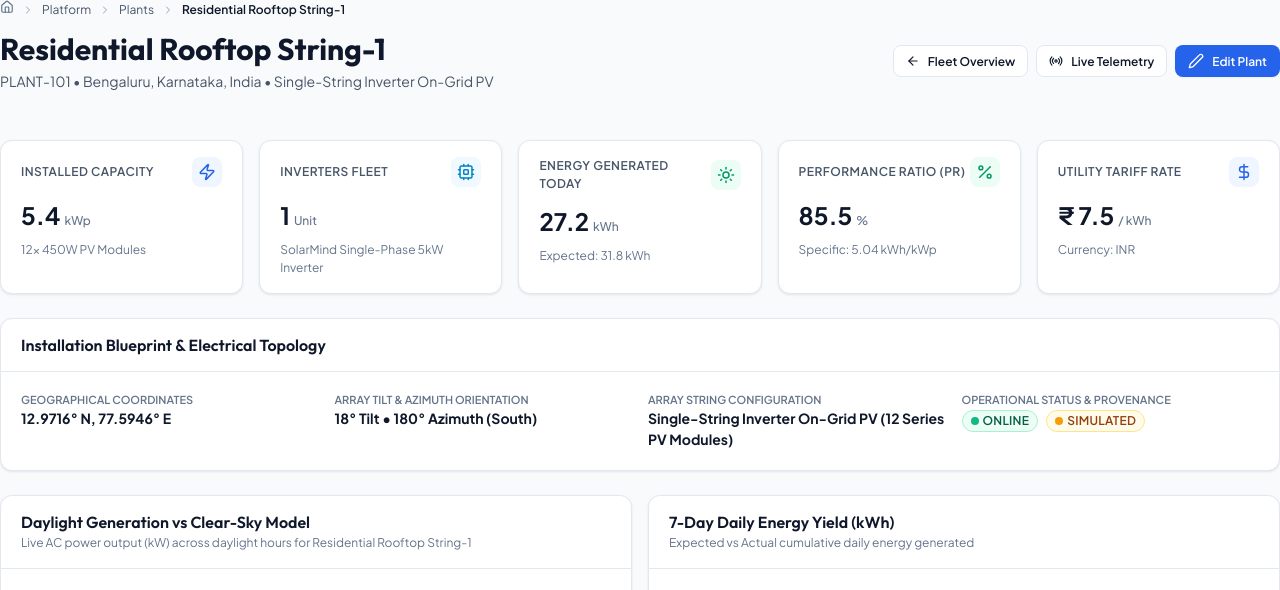
Test: PlantDetailPage Component Suite › opens Edit Plant modal from detail page
Expected: the heading "Residential Rooftop String-1" is shown, [0, 30, 386, 68]
Click the button "Edit Plant".
click(1228, 61)  # box [1175, 45, 1279, 77]
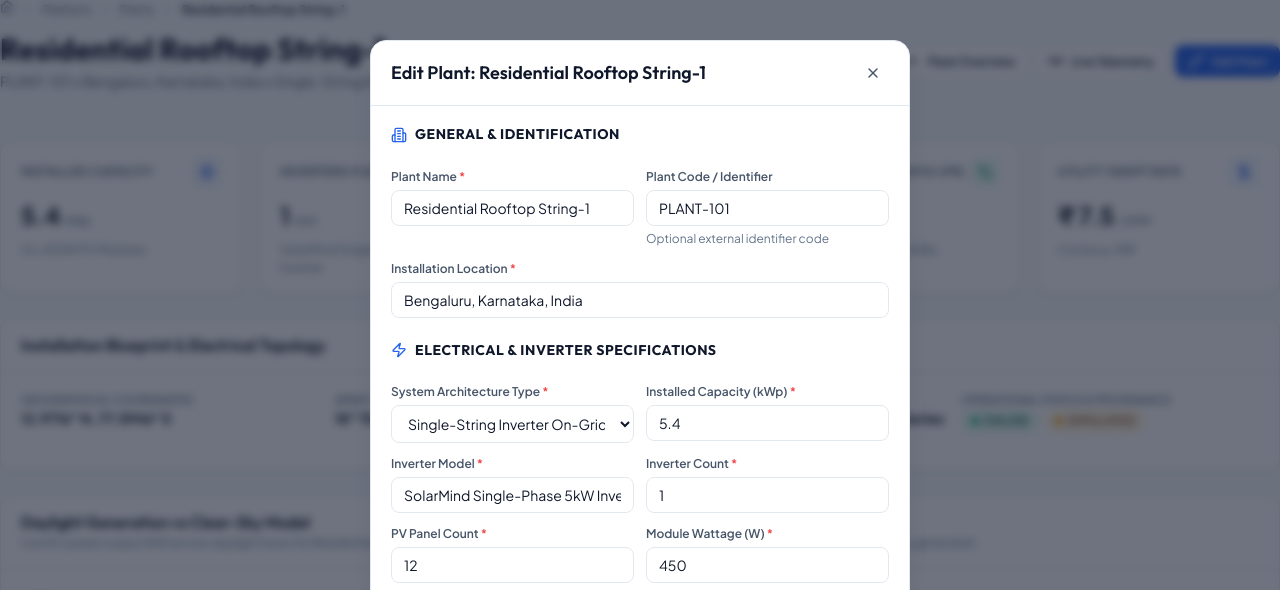
Expected: the heading "Edit Plant: Residential Rooftop String-1" is shown, [391, 62, 706, 84]
